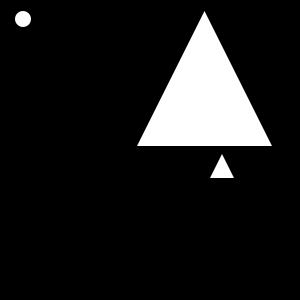rectangle: (15, 11, 31, 27)
triangle: (137, 11, 272, 146), (210, 154, 234, 178)
